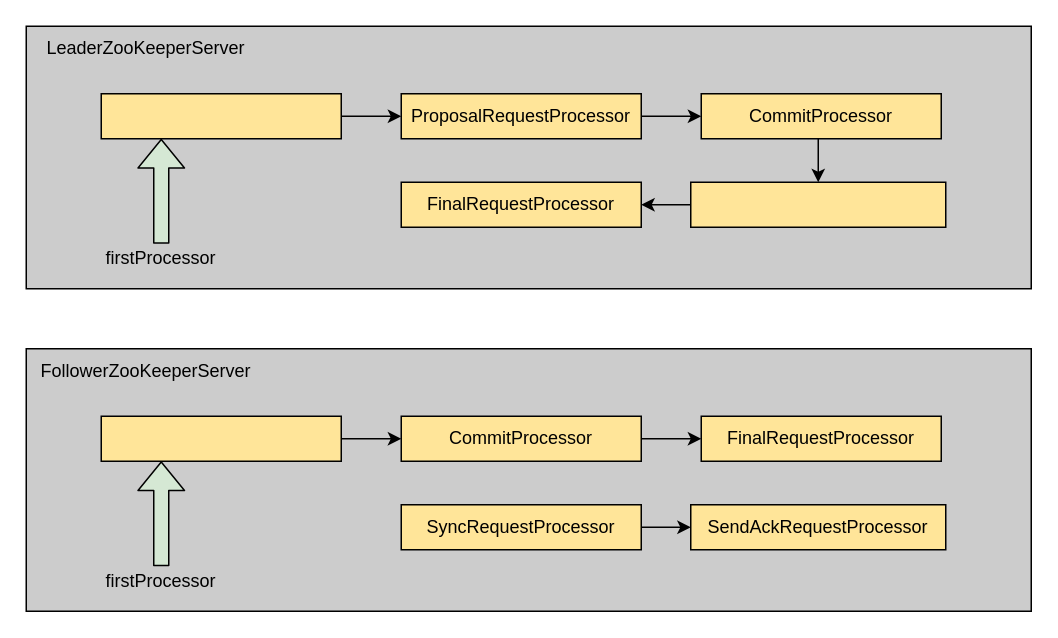
This 1058x638 diagram has some shape labels left out. Here are the shapes that lost their labels. From the top down, the centre of each, then its label:
the point at 220,115: PrepRequestProcessor
the point at 817,204: ToBeAppliedRequestProcessor
the point at 220,438: FollowerRequestProcessor
